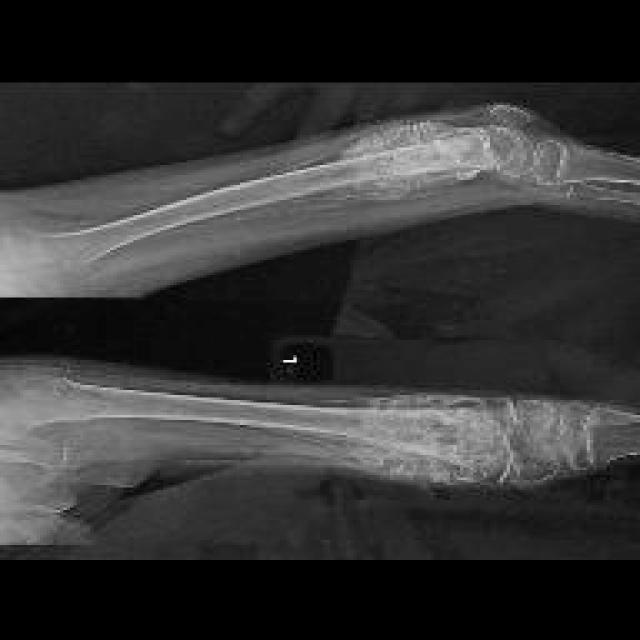bone-cancer: (341, 395, 508, 485), (332, 124, 487, 198)
